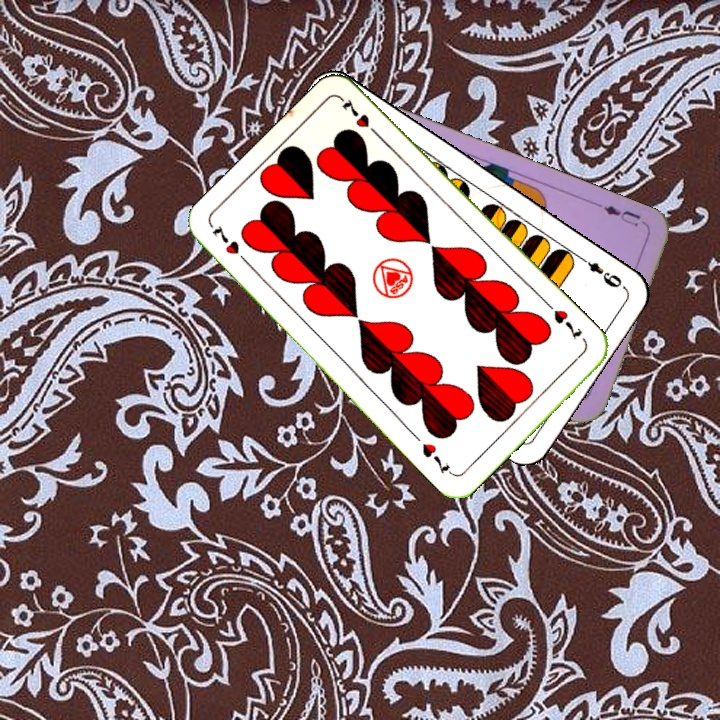E9: (575, 252, 625, 291)
EU: (594, 199, 644, 230)
H7: (208, 221, 253, 269), (549, 306, 585, 342)
